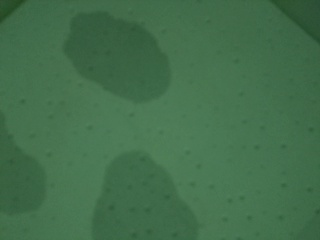Water_detected: (102, 159, 173, 240), (78, 23, 157, 81), (0, 145, 35, 191)
